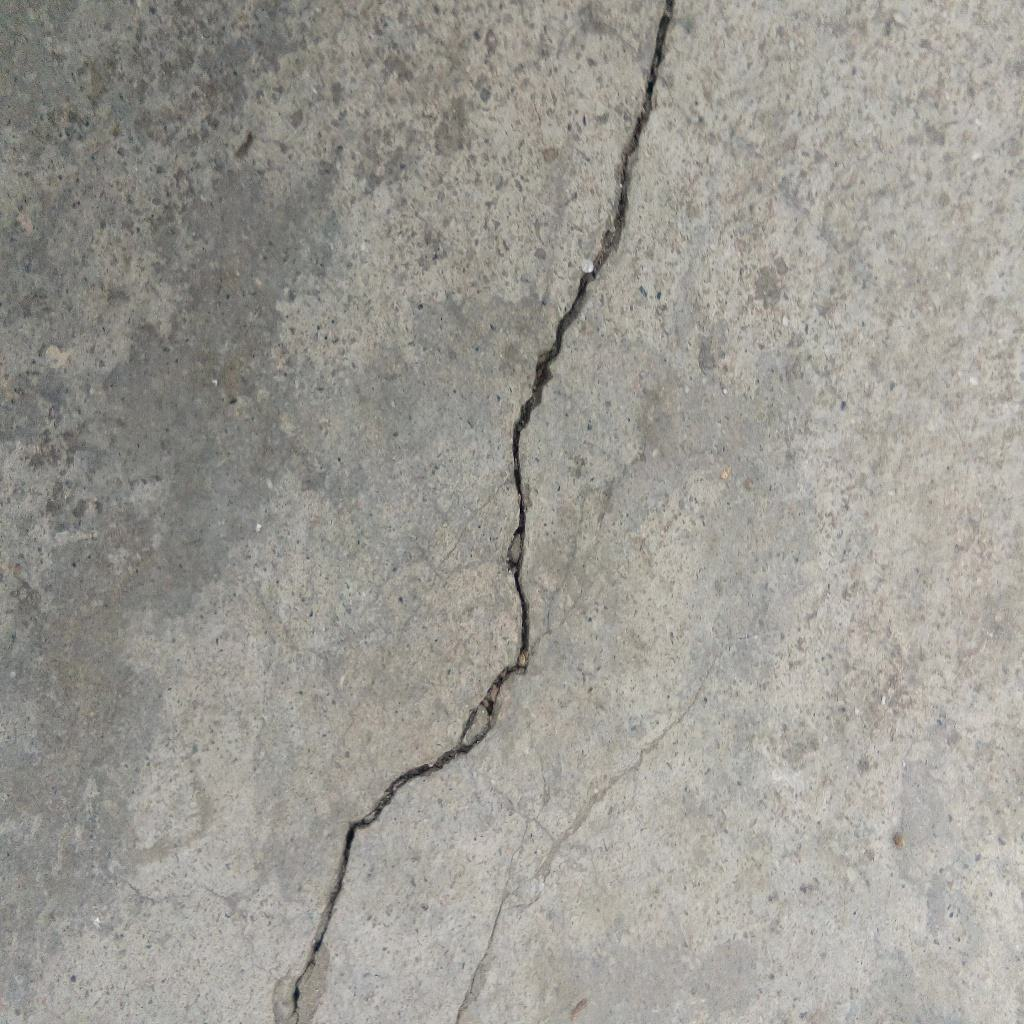Crack: (285, 1, 674, 1024)
